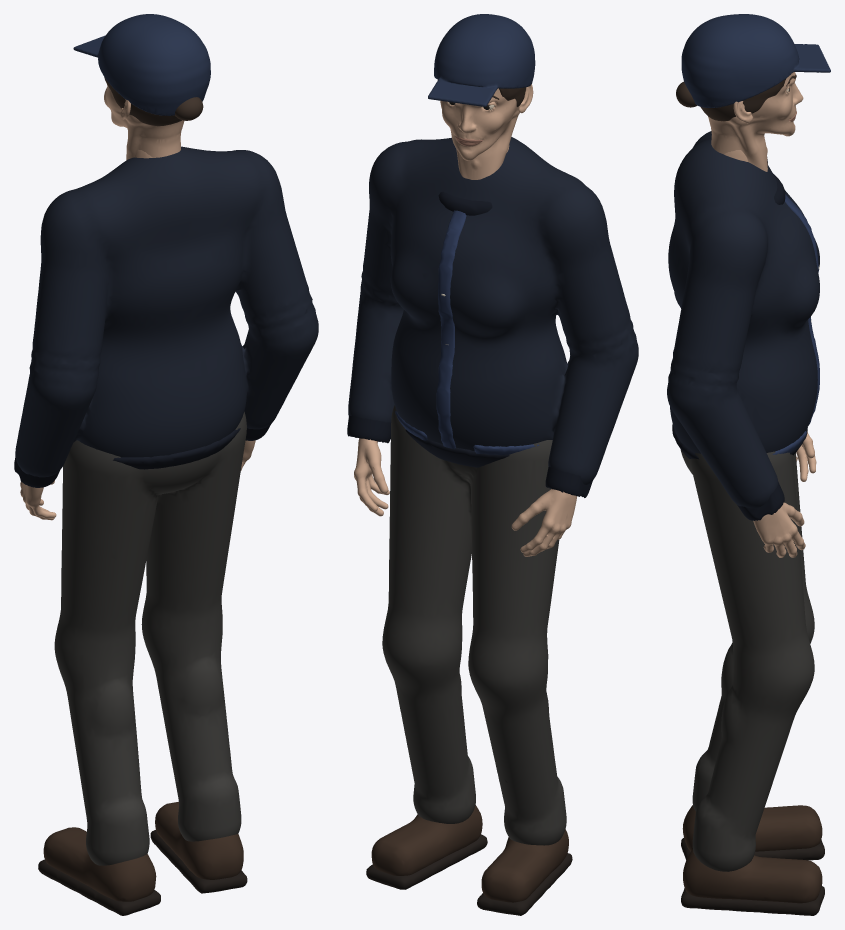
File: constable.glb
3 views of the same model, side by side, from view 1: azimuth 30°, elevation 25°; view 2: azimuth 150°, elevation 25°; view 3: azimuth 270°, elevation 25° (orthographic).
Visible parts, largest first — view 1: constable_body, constable_head, constable_hands; view 2: constable_body, constable_head, constable_hands; view 3: constable_body, constable_head, constable_hands.
Part boxes in pixels (x1,y1,x2,y2): constable_body: [15, 146, 318, 915]; constable_head: [73, 14, 210, 160]; constable_hands: [14, 424, 270, 520]; constable_body: [348, 137, 638, 915]; constable_head: [428, 14, 535, 179]; constable_hands: [347, 415, 592, 556]; constable_body: [667, 131, 824, 915]; constable_head: [676, 14, 830, 171]; constable_hands: [737, 431, 816, 557].
Size of the model in its own units: 0.5606 by 1.67 by 0.2885.
